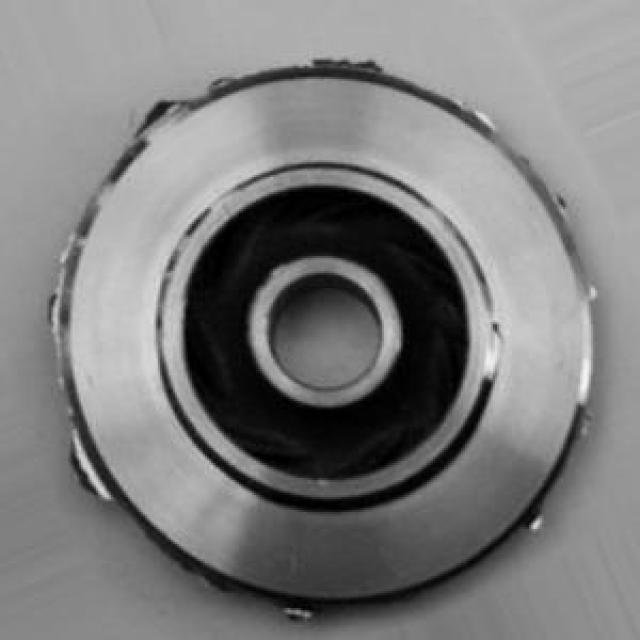Defect: (127, 96, 190, 132)
